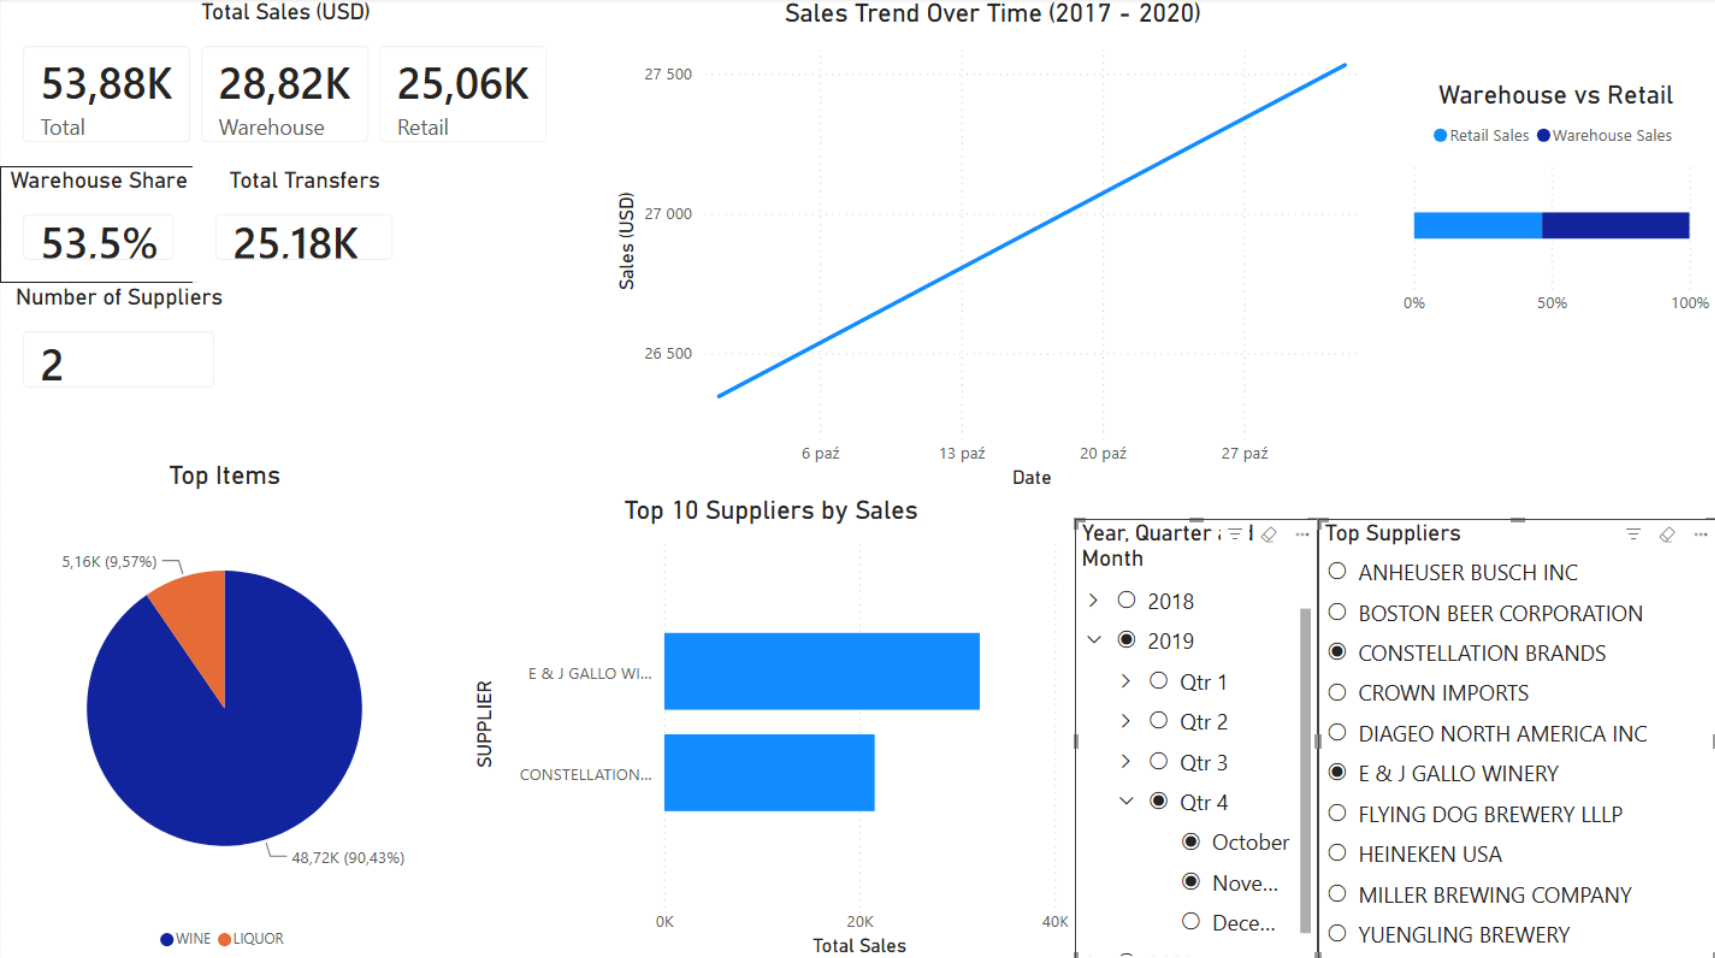

The dashboard page shown, as its layout file describes it:
{"tool":"powerbi","page":{"name":"Total Sales","canvas":[1280,720],"ordinal":0},"visuals":[{"type":"lineChart","title":"Sales Trend Over Time (2017 - 2020)","fields":{"Y":["Warehouse_and_Retail_Sales.Total Sales"],"Category":["Warehouse_and_Retail_Sales.Date"]},"box":[454.3,0,571.9,370.8],"z":0},{"type":"clusteredBarChart","title":"Top 10 Suppliers by Sales","fields":{"Category":["Warehouse_and_Retail_Sales.SUPPLIER"],"Y":["Warehouse_and_Retail_Sales.Total Sales"]},"box":[348.3,370.8,453.4,349.2],"z":2000},{"type":"listSlicer","fields":{"Values":["Warehouse_and_Retail_Sales.Date.Variation.Date Hierarchy.Year","Warehouse_and_Retail_Sales.Date.Variation.Date Hierarchy.Quarter","Warehouse_and_Retail_Sales.Date.Variation.Date Hierarchy.Month"]},"box":[801.7,388.7,181.3,331.3],"z":3000},{"type":"listSlicer","fields":{"Values":["Warehouse_and_Retail_Sales.SUPPLIER"]},"box":[983,388.7,297.2,331.3],"z":4000},{"type":"hundredPercentStackedBarChart","title":"Warehouse vs Retail","fields":{"Y":["Sum(Warehouse_and_Retail_Sales.WAREHOUSE SALES)","Sum(Warehouse_and_Retail_Sales.RETAIL SALES)"]},"box":[1040.5,61,239.7,184.9],"z":5000},{"type":"cardVisual","title":"Total Sales (USD)","fields":{"Data":["Warehouse_and_Retail_Sales.Total Sales","Sum(Warehouse_and_Retail_Sales.WAREHOUSE SALES)","Sum(Warehouse_and_Retail_Sales.RETAIL SALES)"]},"box":[0,0,425.5,125.7],"z":6000},{"type":"cardVisual","title":"Warehouse Share","fields":{"Data":["Warehouse_and_Retail_Sales.Warehouse Share %"]},"box":[0,125.7,147.2,87.1],"z":7000},{"type":"cardVisual","title":"Total Transfers","fields":{"Data":["Warehouse_and_Retail_Sales.Total Transfers"]},"box":[143.6,125.7,167,87.1],"z":8000},{"type":"cardVisual","title":"Number of Suppliers","fields":{"Data":["Warehouse_and_Retail_Sales.Number of Suppliers"]},"box":[0,212.8,177.8,95.2],"z":9000},{"type":"pieChart","title":"Top Items","fields":{"Category":["Warehouse_and_Retail_Sales.ITEM TYPE"],"Y":["Warehouse_and_Retail_Sales.Total Sales"]},"box":[0,344.7,334.9,375.3],"z":9001}]}

Visuals, with their boxes in screenshot pixels (x1, y1, x2, y2), scaled from the page's 1280x720 canvas onto the 1715x958 screenshot:
"Sales Trend Over Time (2017 - 2020)" lineChart: BBox(609, 0, 1375, 493)
"Top 10 Suppliers by Sales" clusteredBarChart: BBox(467, 493, 1074, 957)
listSlicer - Warehouse_and_Retail_Sales.Date.Variation.Date Hierarchy.Year x Warehouse_and_Retail_Sales.Date.Variation.Date Hierarchy.Quarter: BBox(1074, 517, 1317, 957)
listSlicer - Warehouse_and_Retail_Sales.SUPPLIER: BBox(1317, 517, 1714, 957)
"Warehouse vs Retail" hundredPercentStackedBarChart: BBox(1394, 81, 1714, 327)
"Total Sales (USD)" cardVisual: BBox(0, 0, 570, 167)
"Warehouse Share" cardVisual: BBox(0, 167, 197, 283)
"Total Transfers" cardVisual: BBox(192, 167, 416, 283)
"Number of Suppliers" cardVisual: BBox(0, 283, 238, 410)
"Top Items" pieChart: BBox(0, 459, 449, 957)
